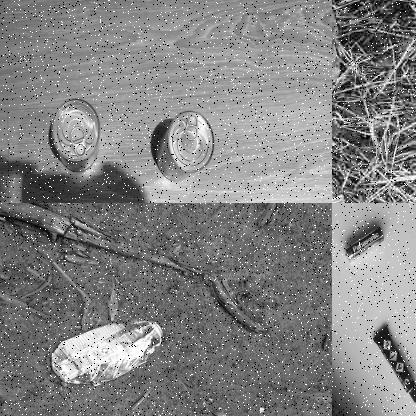metal: (56, 316, 164, 382), (156, 108, 216, 187), (332, 361, 415, 415), (46, 95, 101, 170), (345, 228, 385, 268)
plastic: (371, 320, 415, 406)
